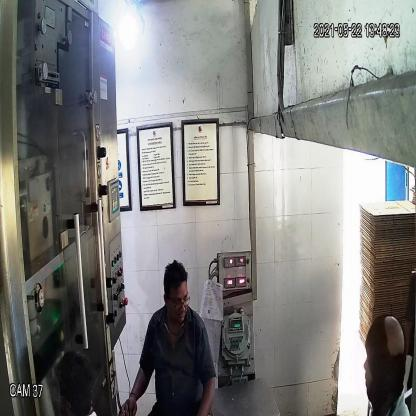goggles: (160, 291, 192, 313)
